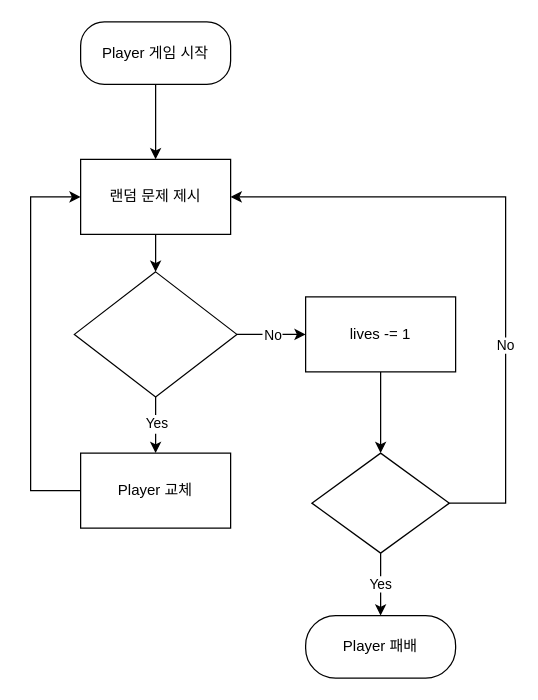
The diagram is 538 pixels wide and 700 high, and some of its shapes have lost their labels. Here are the shapes that lost their labels. From the top down, the box of each, then its label:
(73, 271, 237, 397): 답변이 정답?
(311, 452, 449, 553): lives == 0?
